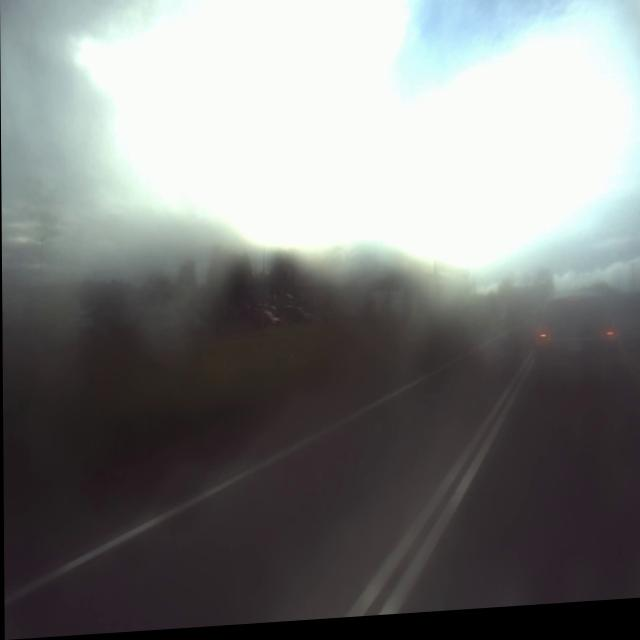car: (533, 284, 622, 414)
